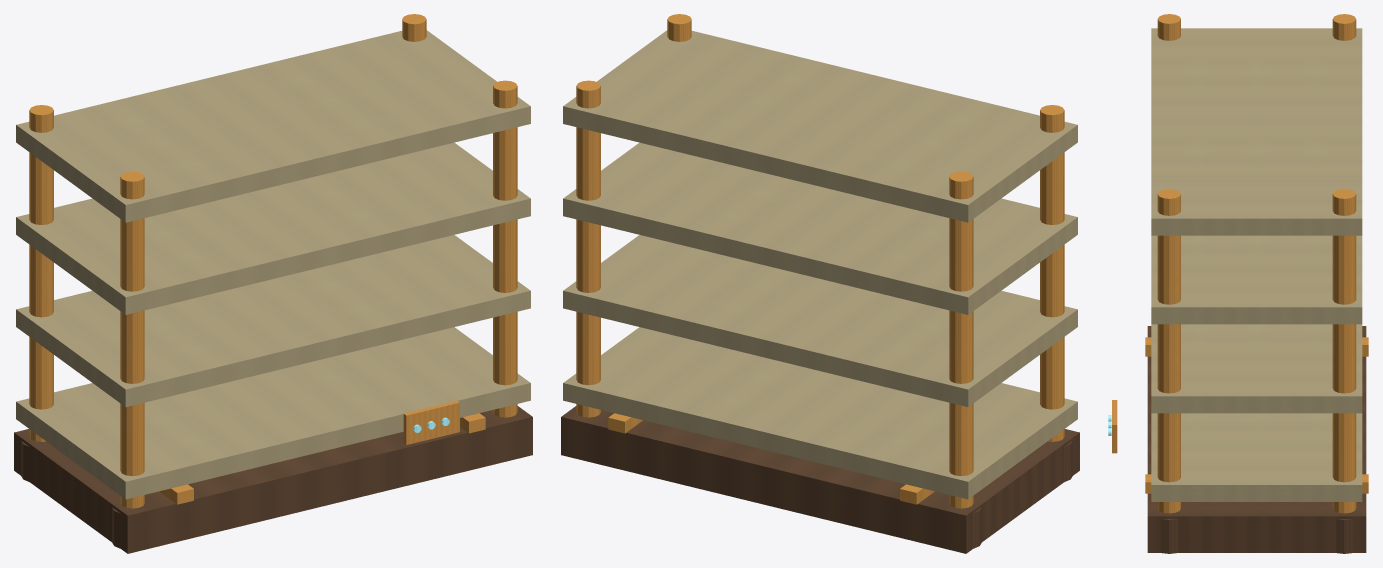
The model's file is atlas100-s012-a06.glb.
3 renders of one model, left to right at view 1: azimuth 30°, elevation 25°; view 2: azimuth 150°, elevation 25°; view 3: azimuth 270°, elevation 25°, orthographic. The views are drawn at different scales.
Visible parts, largest first — view 1: atlas100-s012-a06:part-014, atlas100-s012-a06:part-013, atlas100-s012-a06:part-012, atlas100-s012-a06:part-011, atlas100-s012-a06:part-000, atlas100-s012-a06:part-005, atlas100-s012-a06:part-009, atlas100-s012-a06:part-003, atlas100-s012-a06:part-015, atlas100-s012-a06:part-007; view 2: atlas100-s012-a06:part-014, atlas100-s012-a06:part-013, atlas100-s012-a06:part-011, atlas100-s012-a06:part-012, atlas100-s012-a06:part-000, atlas100-s012-a06:part-003, atlas100-s012-a06:part-007, atlas100-s012-a06:part-005, atlas100-s012-a06:part-009; view 3: atlas100-s012-a06:part-014, atlas100-s012-a06:part-012, atlas100-s012-a06:part-013, atlas100-s012-a06:part-011, atlas100-s012-a06:part-000, atlas100-s012-a06:part-007, atlas100-s012-a06:part-009, atlas100-s012-a06:part-010, atlas100-s012-a06:part-003, atlas100-s012-a06:part-005, atlas100-s012-a06:part-008.
Boxes of the visible parts, <box> form: atlas100-s012-a06:part-014: <box>16,30,530,222</box>; atlas100-s012-a06:part-013: <box>16,142,530,314</box>; atlas100-s012-a06:part-012: <box>16,235,530,406</box>; atlas100-s012-a06:part-011: <box>16,327,530,499</box>; atlas100-s012-a06:part-000: <box>14,406,532,553</box>; atlas100-s012-a06:part-005: <box>120,171,144,508</box>; atlas100-s012-a06:part-009: <box>493,80,517,417</box>; atlas100-s012-a06:part-003: <box>29,105,53,441</box>; atlas100-s012-a06:part-015: <box>403,400,459,444</box>; atlas100-s012-a06:part-007: <box>402,14,426,41</box>; atlas100-s012-a06:part-014: <box>563,30,1077,222</box>; atlas100-s012-a06:part-013: <box>563,142,1077,314</box>; atlas100-s012-a06:part-011: <box>563,327,1077,499</box>; atlas100-s012-a06:part-012: <box>563,235,1077,406</box>; atlas100-s012-a06:part-000: <box>561,406,1079,553</box>; atlas100-s012-a06:part-003: <box>949,171,973,508</box>; atlas100-s012-a06:part-007: <box>576,80,600,417</box>; atlas100-s012-a06:part-005: <box>1040,105,1064,441</box>; atlas100-s012-a06:part-009: <box>667,14,691,41</box>; atlas100-s012-a06:part-014: <box>1151,28,1362,235</box>; atlas100-s012-a06:part-012: <box>1151,324,1362,413</box>; atlas100-s012-a06:part-013: <box>1151,235,1362,324</box>; atlas100-s012-a06:part-011: <box>1151,413,1362,501</box>; atlas100-s012-a06:part-000: <box>1147,326,1366,552</box>; atlas100-s012-a06:part-007: <box>1332,189,1356,513</box>; atlas100-s012-a06:part-009: <box>1157,189,1180,513</box>; atlas100-s012-a06:part-010: <box>1160,519,1177,553</box>; atlas100-s012-a06:part-003: <box>1332,14,1356,40</box>; atlas100-s012-a06:part-005: <box>1157,14,1180,40</box>; atlas100-s012-a06:part-008: <box>1336,519,1352,553</box>.
Bounding box in the file's own units: 2.91 × 2.48 × 1.66.
4 materials, 4 textured.
